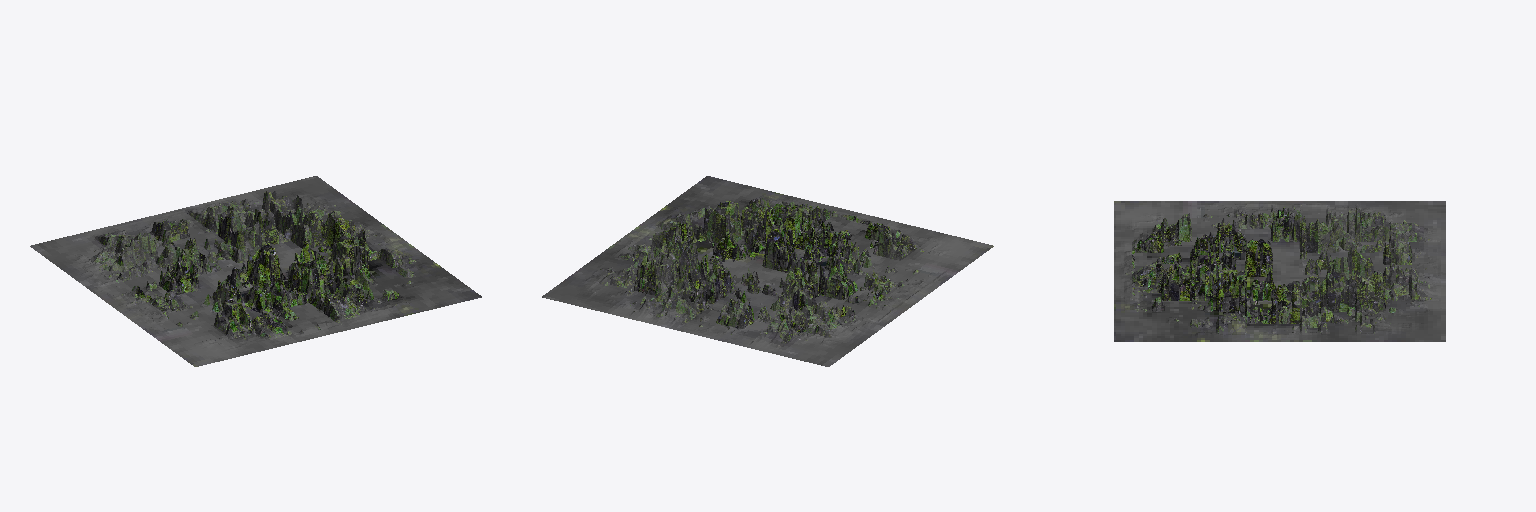
3 views of the same model, side by side, from view 1: azimuth 30°, elevation 25°; view 2: azimuth 150°, elevation 25°; view 3: azimuth 270°, elevation 25° (orthographic).
Visible parts, largest first — view 1: Landscape.004; view 2: Landscape.004; view 3: Landscape.004.
Boxes of the visible parts, x1,y1,x2,y2 form: Landscape.004: [30, 176, 481, 366]; Landscape.004: [542, 176, 993, 366]; Landscape.004: [1114, 201, 1445, 341].
Size of the model in its own units: 7.98 by 0.8249 by 7.98.
Materials: 1 (1 with a texture image).